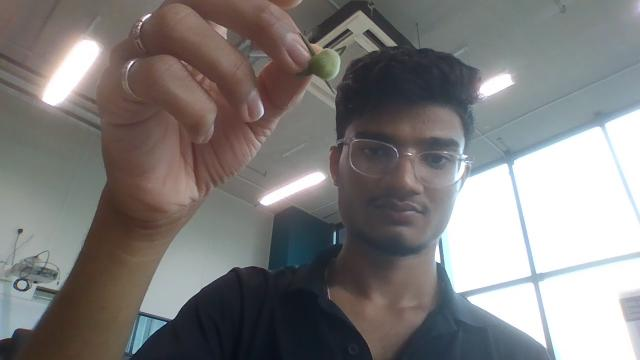Fruit Maturation: (306, 48, 341, 81)
